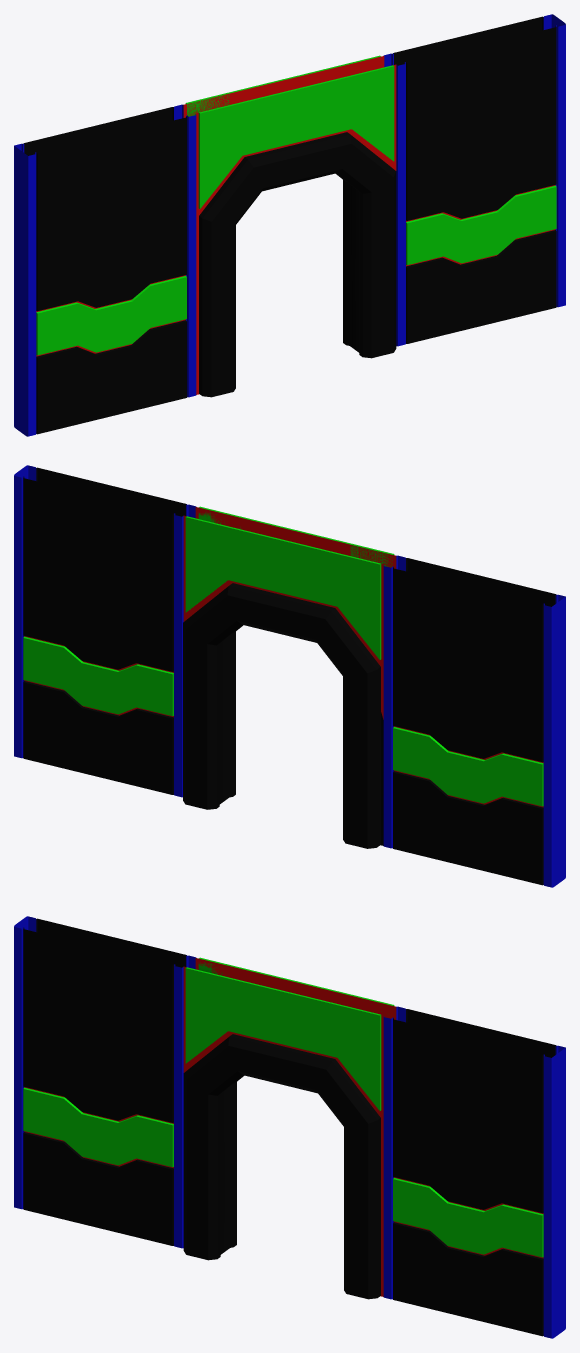
Rendered from SM_Wall_Crew_Doorway.fbx.
The picture shows the model from 3 angles, top to bottom: view 1: azimuth 30°, elevation 25°; view 2: azimuth 150°, elevation 25°; view 3: azimuth 330°, elevation 25°; orthographic projection.
Parts seen in each view (by area): view 1: SM_Wall_Crew_Doorway; view 2: SM_Wall_Crew_Doorway; view 3: SM_Wall_Crew_Doorway.
Part boxes in pixels (x1,y1,x2,y2): SM_Wall_Crew_Doorway: [14, 14, 565, 436]; SM_Wall_Crew_Doorway: [14, 465, 565, 887]; SM_Wall_Crew_Doorway: [14, 916, 565, 1338].
Size of the model in its own units: 800 by 400 by 67.45.
